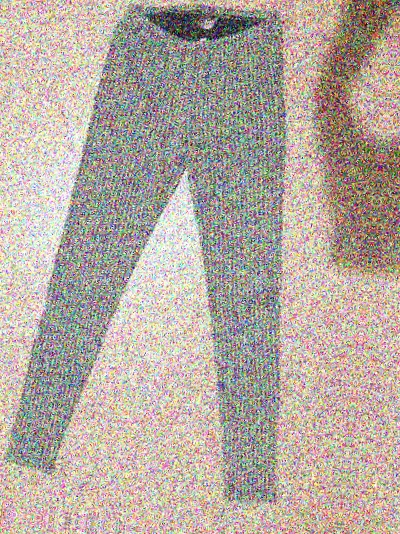Pants: (7, 0, 343, 523), (394, 30, 400, 534)
